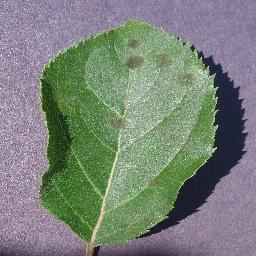apple healthy: (37, 17, 220, 255)
